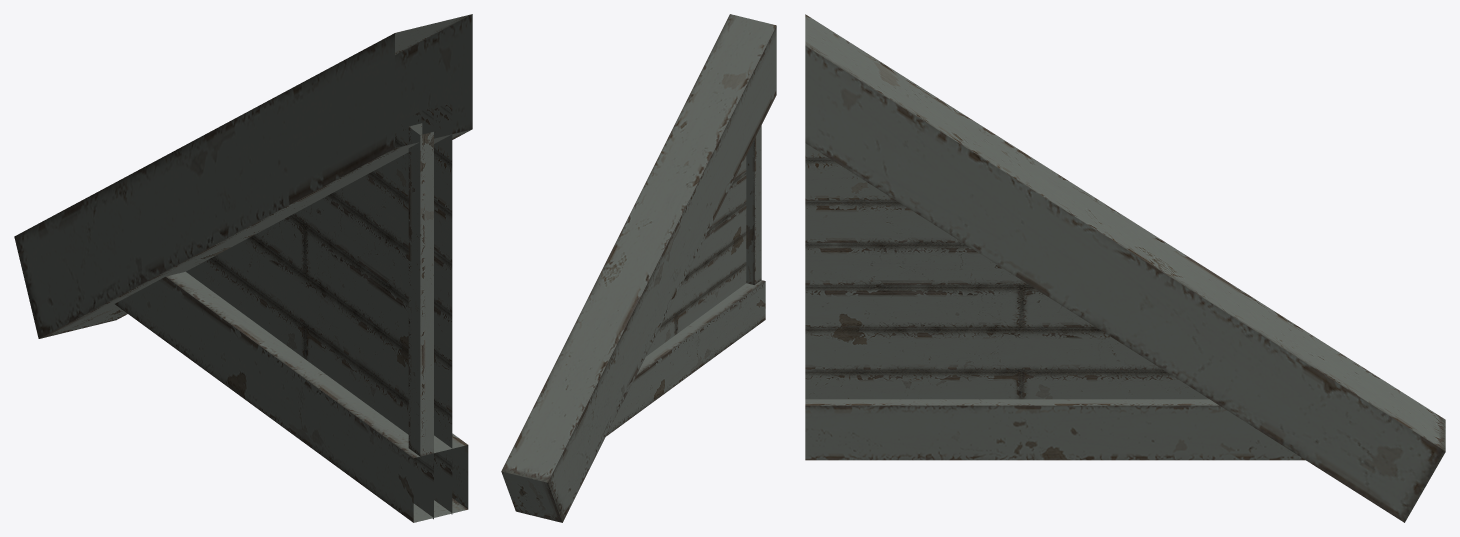
Rendered from SM_Roof200EndLeft.FBX.
3 renders of one model, left to right at view 1: azimuth 30°, elevation 25°; view 2: azimuth 150°, elevation 25°; view 3: azimuth 270°, elevation 25°, orthographic. The views are drawn at different scales.
Parts seen in each view (by area): view 1: SM_Roof200EndLeft; view 2: SM_Roof200EndLeft; view 3: SM_Roof200EndLeft.
Part boxes in pixels (<box>): SM_Roof200EndLeft: <box>14,14,472,522</box>; SM_Roof200EndLeft: <box>501,14,776,522</box>; SM_Roof200EndLeft: <box>805,14,1445,522</box>.
Bounding box in the file's own units: 35.56 × 248 × 302.
